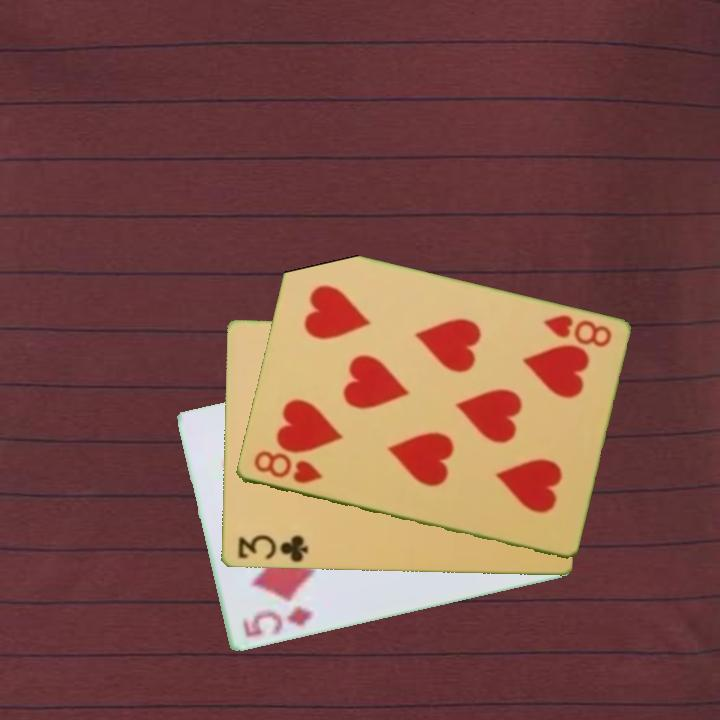3c: (234, 532, 311, 566)
5d: (238, 602, 316, 641)
8h: (249, 447, 325, 487), (539, 311, 614, 351)
